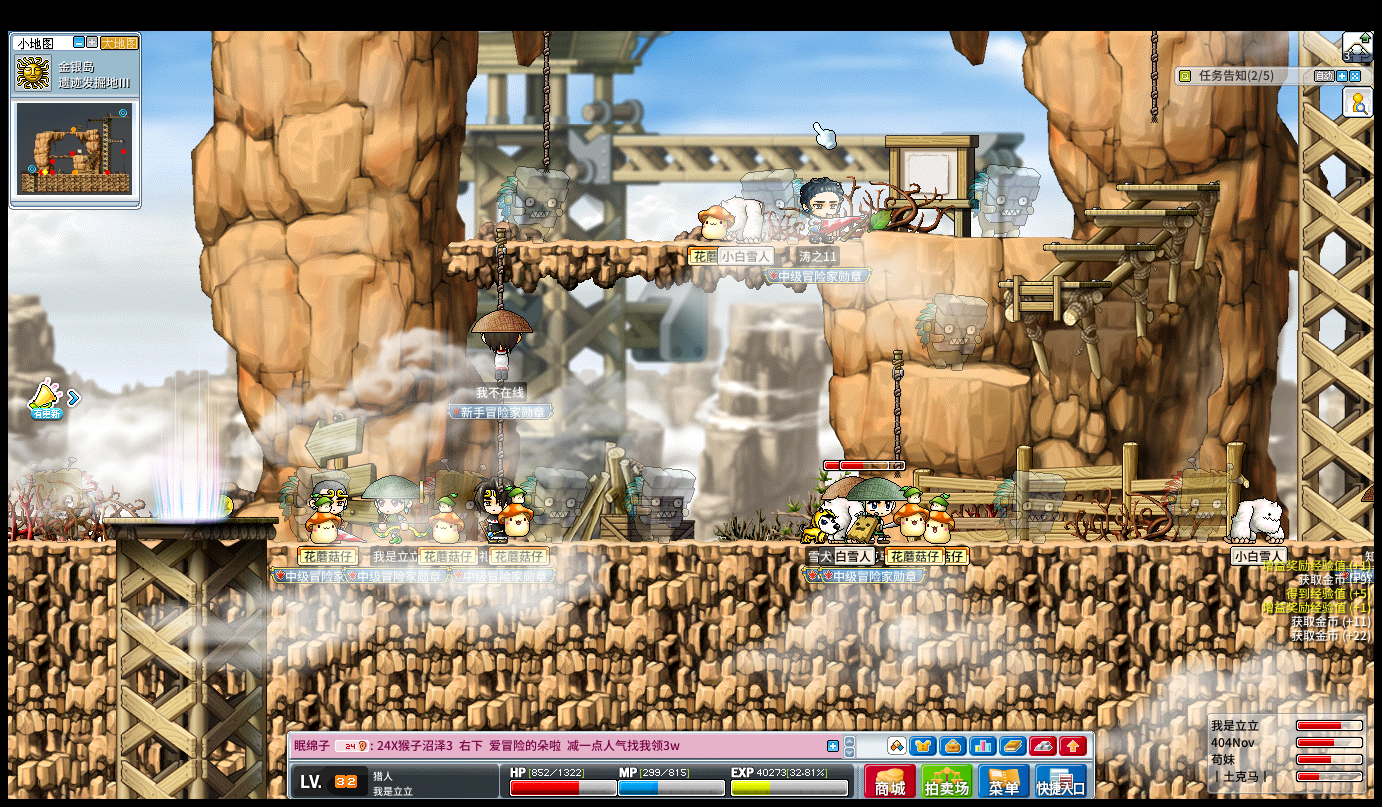floor: (447, 239, 839, 250), (922, 365, 1031, 386), (898, 233, 1075, 244), (102, 518, 276, 525), (8, 539, 118, 550), (1079, 207, 1194, 216), (996, 279, 1108, 288), (1040, 243, 1161, 250), (1116, 184, 1220, 191)
monster: (1163, 459, 1246, 541), (914, 291, 988, 370), (497, 166, 571, 244), (623, 465, 695, 542), (993, 471, 1067, 544), (969, 165, 1042, 237), (520, 466, 589, 541), (19, 457, 97, 512), (739, 169, 805, 198)
rope: (889, 351, 904, 468), (542, 30, 550, 173), (492, 230, 506, 310), (1148, 31, 1157, 123), (497, 420, 502, 493)
